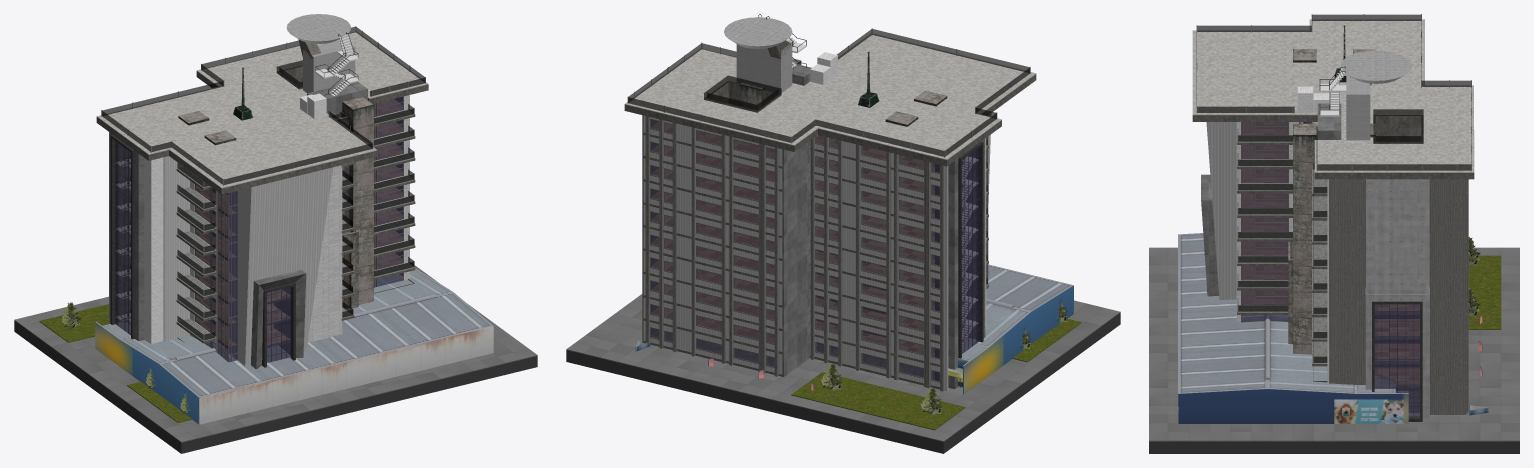
File: bld_w1.glb
3 views of the same model, side by side, from view 1: azimuth 30°, elevation 25°; view 2: azimuth 150°, elevation 25°; view 3: azimuth 270°, elevation 25° (orthographic). The views are drawn at different scales.
Parts seen in each view (by area): view 1: tower, pet, brut, real; view 2: tower, pet, brut; view 3: tower, pet, brut, real.
Part boxes in pixels (x1,y1,x2,y2): tower: [14, 14, 537, 453]; pet: [95, 268, 493, 424]; brut: [178, 67, 373, 324]; real: [342, 230, 358, 308]; tower: [566, 14, 1120, 453]; pet: [635, 264, 1073, 394]; brut: [740, 51, 947, 126]; tower: [1149, 14, 1519, 453]; pet: [1178, 233, 1488, 423]; brut: [1293, 25, 1375, 354]; real: [1288, 241, 1292, 344].
Bounding box in the file's own units: 54.84 × 43.4 × 44.54.
20 materials, 18 textured.
